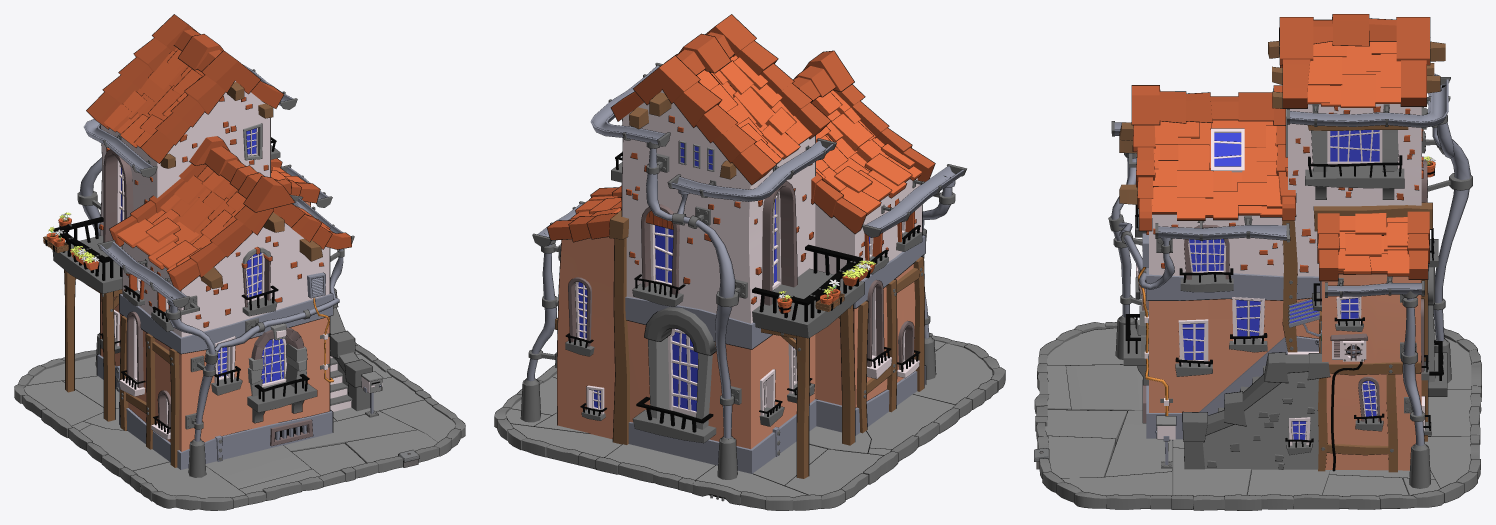
The model's file is house_09.glb.
3 renders of one model, left to right at view 1: azimuth 30°, elevation 25°; view 2: azimuth 150°, elevation 25°; view 3: azimuth 270°, elevation 25°, orthographic. The views are drawn at different scales.
Parts seen in each view (by area): view 1: 01_Maison_09.005, 01_Maison_09.003, 01_Maison_09.004, 01_SOL_Maison_09.006, 01_Maison_09.010, 01_Maison_09.012, 01_Maison_09.023, 01_Maison_09.022, 01_SOL_Maison_09.002, 01_Maison_09.009, 01_Maison_09.011, 01_SOL_Maison_09.007 (+27 smaller); view 2: 01_Maison_09.005, 01_Maison_09.003, 01_Maison_09.004, 01_Maison_09.022, 01_Maison_09.023, 01_SOL_Maison_09.006, 01_Maison_09.010, 01_Maison_09.012, 01_Maison_09.009, 01_Maison_09.011, 01_Maison_09.007, 01_Maison_09.021 (+25 smaller); view 3: 01_Maison_09.005, 01_Maison_09.004, 01_Maison_09.003, 01_SOL_Maison_09.006, 01_Maison_09.012, 01_Maison_09.022, 01_Maison_09.034, 01_Maison_09.011, 01_Maison_09.009, 01_Maison_09.015, 01_Maison_09.010, 01_Maison_09.002 (+30 smaller).
Part boxes in pixels (<box>): 01_Maison_09.005: <box>100,81,348,451</box>; 01_Maison_09.003: <box>86,14,351,290</box>; 01_Maison_09.004: <box>104,48,331,272</box>; 01_SOL_Maison_09.006: <box>14,343,465,510</box>; 01_Maison_09.010: <box>97,293,332,469</box>; 01_Maison_09.012: <box>53,145,316,461</box>; 01_Maison_09.023: <box>64,270,179,467</box>; 01_Maison_09.022: <box>103,123,382,432</box>; 01_SOL_Maison_09.002: <box>133,400,455,497</box>; 01_Maison_09.009: <box>84,65,342,303</box>; 01_Maison_09.011: <box>79,157,343,441</box>; 01_SOL_Maison_09.007: <box>205,445,311,488</box>; 01_Maison_09.005: <box>557,90,921,449</box>; 01_Maison_09.003: <box>547,14,934,241</box>; 01_Maison_09.004: <box>569,55,921,229</box>; 01_Maison_09.022: <box>568,181,914,429</box>; 01_Maison_09.023: <box>613,238,924,478</box>; 01_SOL_Maison_09.006: <box>494,333,1005,510</box>; 01_Maison_09.010: <box>625,235,925,473</box>; 01_Maison_09.012: <box>565,162,921,456</box>; 01_Maison_09.009: <box>538,65,963,237</box>; 01_Maison_09.011: <box>527,148,952,438</box>; 01_Maison_09.007: <box>575,140,905,416</box>; 01_Maison_09.021: <box>565,152,920,432</box>; 01_Maison_09.005: <box>1149,104,1421,470</box>; 01_Maison_09.004: <box>1151,41,1409,276</box>; 01_Maison_09.003: <box>1132,14,1429,280</box>; 01_SOL_Maison_09.006: <box>1034,322,1481,510</box>; 01_Maison_09.012: <box>1123,165,1446,454</box>; 01_Maison_09.022: <box>1142,109,1434,445</box>; 01_Maison_09.034: <box>1182,130,1379,439</box>; 01_Maison_09.011: <box>1111,122,1470,445</box>; 01_Maison_09.009: <box>1114,74,1448,296</box>; 01_Maison_09.015: <box>1119,41,1445,454</box>; 01_Maison_09.010: <box>1146,267,1319,440</box>; 01_Maison_09.002: <box>1183,352,1330,469</box>.
Bounding box in the file's own units: 1378 × 1478 × 1465.
